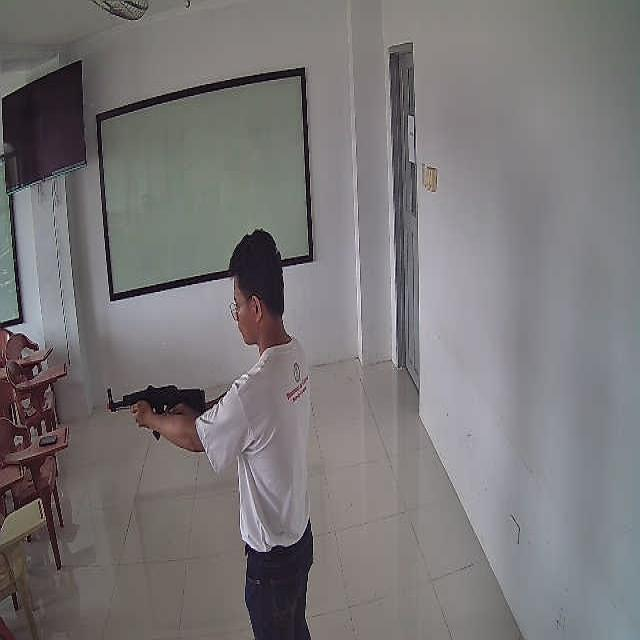rifle: (106, 386, 205, 442)
